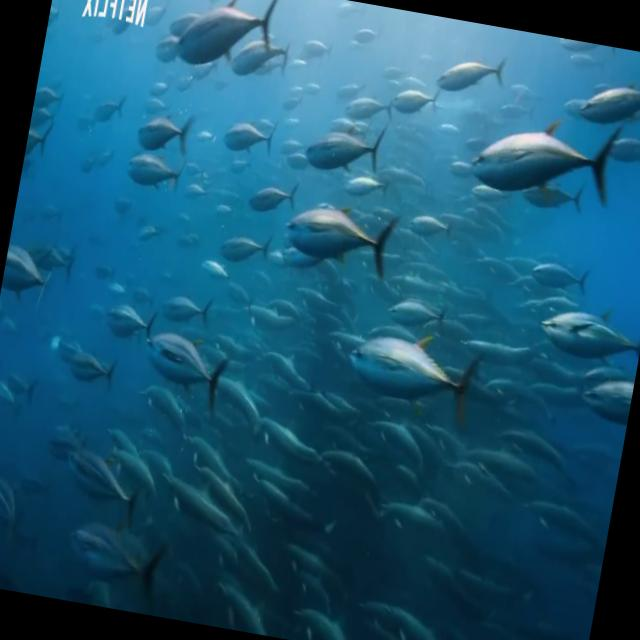fish: (336, 306, 500, 424), (468, 106, 622, 210), (282, 188, 396, 288), (168, 0, 284, 82), (560, 57, 640, 155)
